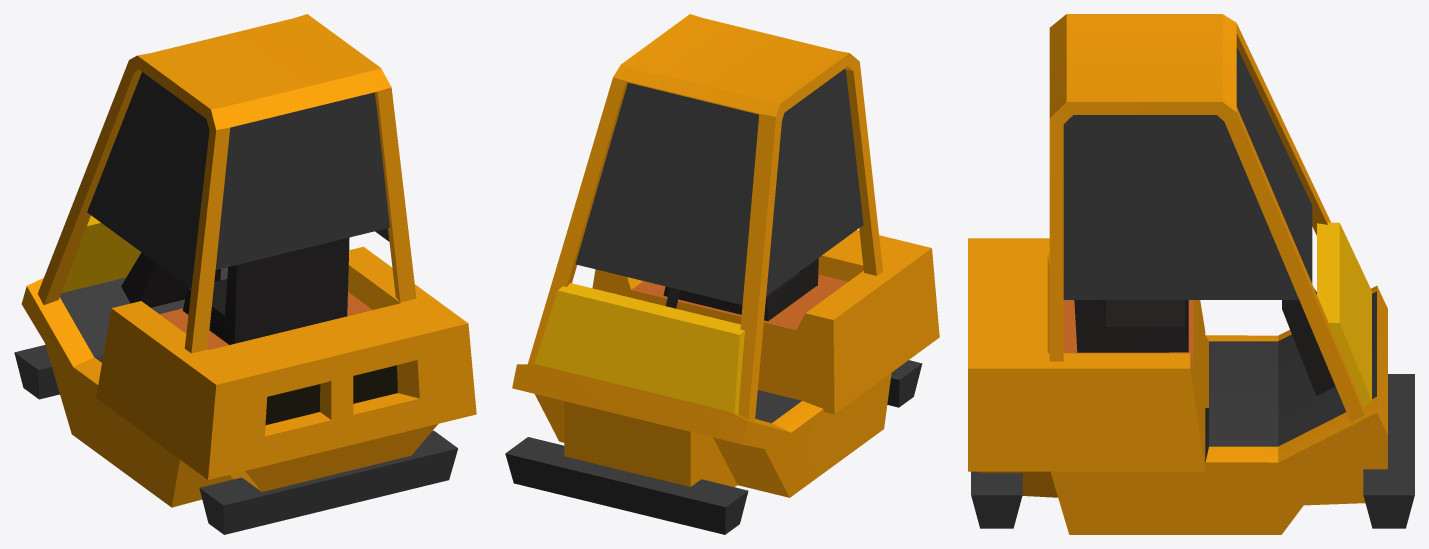
File: forklift.fbx
3 views of the same model, side by side, from view 1: azimuth 30°, elevation 25°; view 2: azimuth 150°, elevation 25°; view 3: azimuth 270°, elevation 25° (orthographic). The views are drawn at different scales.
Parts seen in each view (by area): view 1: forklift; view 2: forklift; view 3: forklift.
Part boxes in pixels (x1,y1,x2,y2): forklift: (14,14,476,534); forklift: (505,14,939,534); forklift: (968,14,1414,534).
Bounding box in the file's own units: 173 × 241 × 236.
